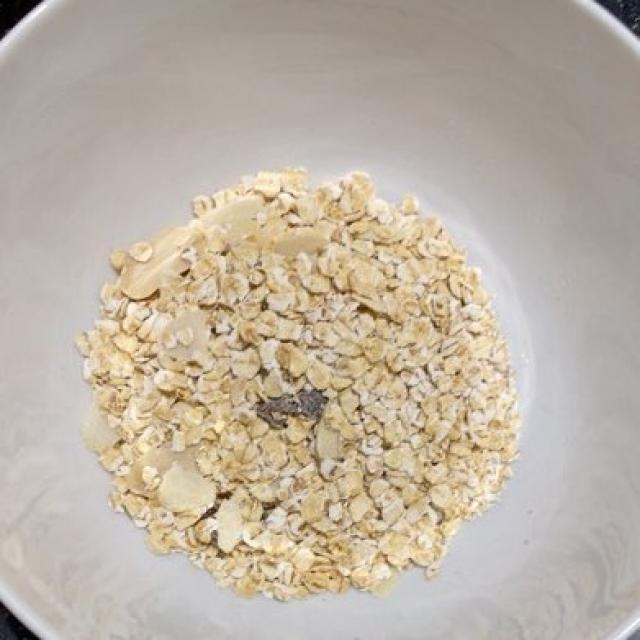muesli: (83, 173, 510, 592)
